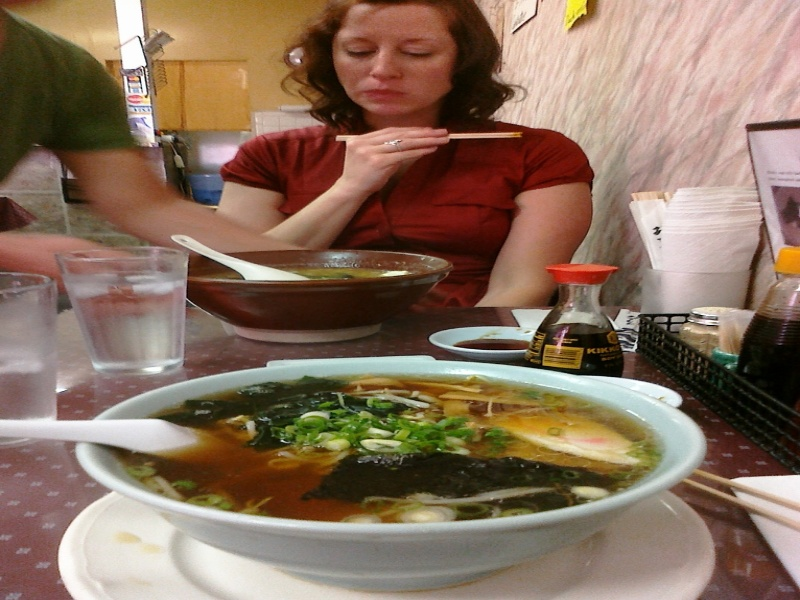person: (288, 3, 572, 308), (2, 4, 234, 271)
